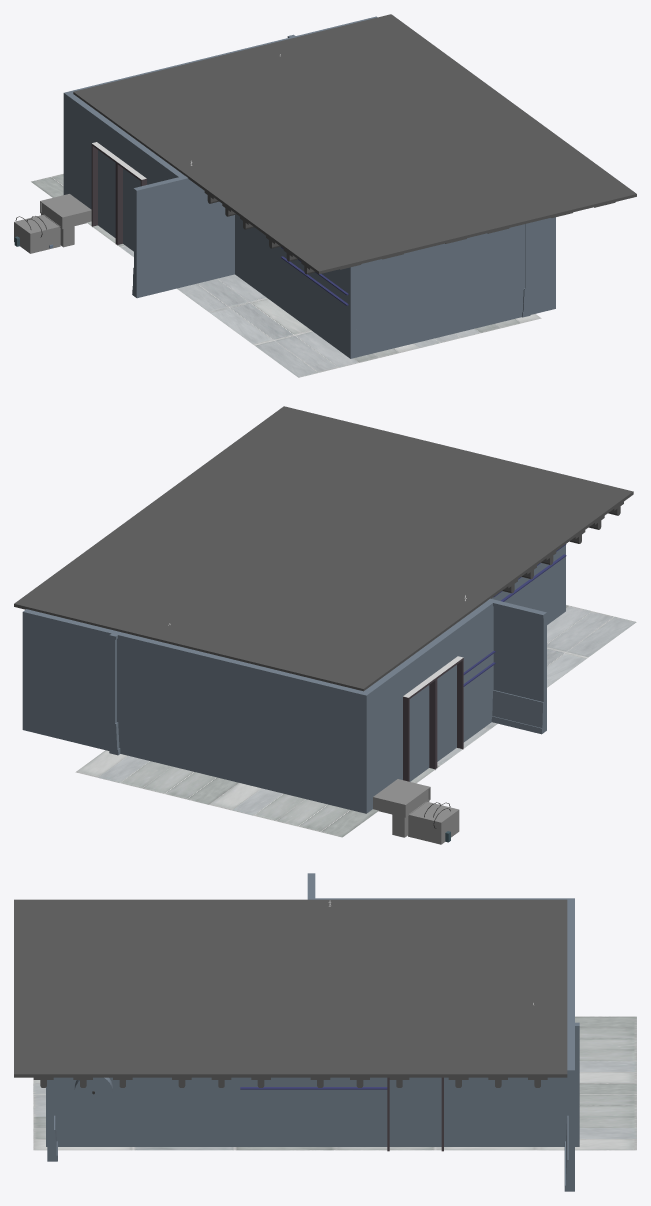
Rendered from map et texxtures.fbx.
3 views of the same model, one above another, from view 1: azimuth 30°, elevation 25°; view 2: azimuth 150°, elevation 25°; view 3: azimuth 270°, elevation 25° (orthographic). The views are drawn at different scales.
Visible parts, largest first — view 1: Cube.004, Cube.007, Plane.002, Cube.008, Plane.011, Plane.008, Plane.013, Plane.012, Plane.003, Plane.005, Plane.004, Plane.006 (+14 smaller); view 2: Cube.003, Cube.002, Cube.014, Plane.002, Plane.008, Plane.011, Plane.003, Plane.004, Plane.001, Plane.005, Plane.010, Plane.007 (+14 smaller); view 3: Plane.002, Cube.010, Plane.007, Plane.010, Plane.004, Plane.013, Cube.013, Cube.012, Cube.009, Plane.005, Plane.008, Plane.003 (+9 smaller).
Part boxes in pixels (box(x1,y1,x2,y2)): Cube.004: box(132, 176, 234, 298); Cube.007: box(355, 242, 453, 356); Plane.002: box(31, 173, 541, 377); Cube.008: box(453, 217, 555, 333); Plane.011: box(257, 201, 425, 274); Plane.008: box(196, 156, 363, 229); Plane.013: box(469, 149, 636, 222); Plane.012: box(363, 175, 530, 248); Plane.003: box(73, 66, 240, 138); Plane.005: box(134, 110, 300, 183); Plane.004: box(285, 14, 451, 84); Plane.006: box(241, 85, 406, 155); Cube.003: box(135, 636, 251, 784); Cube.002: box(248, 664, 363, 812); Cube.014: box(22, 609, 138, 757); Plane.002: box(75, 605, 636, 837); Plane.008: box(382, 512, 565, 593); Plane.011: box(449, 463, 633, 543); Plane.003: box(247, 611, 430, 691); Plane.004: box(14, 554, 197, 634); Plane.001: box(131, 583, 314, 662); Plane.005: box(314, 561, 498, 641); Plane.010: box(149, 455, 332, 533); Plane.007: box(81, 505, 265, 582); Plane.002: box(33, 1016, 636, 1150); Cube.010: box(179, 1077, 312, 1146); Plane.007: box(290, 1016, 429, 1087); Plane.010: box(152, 1016, 290, 1087); Plane.004: box(429, 1016, 567, 1087); Plane.013: box(14, 1016, 152, 1087); Cube.013: box(446, 1022, 579, 1146); Cube.012: box(312, 1077, 445, 1146); Cube.009: box(46, 1077, 179, 1146); Plane.005: box(290, 899, 429, 957); Plane.008: box(152, 899, 290, 957); Plane.003: box(429, 899, 567, 957).
Size of the model in its own units: 577 by 465 by 156.
